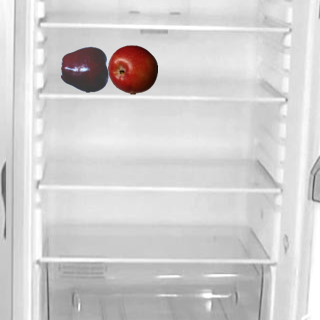Apple Braeburn: (107, 44, 157, 94)
Apple Red Delicious: (60, 44, 110, 94)
